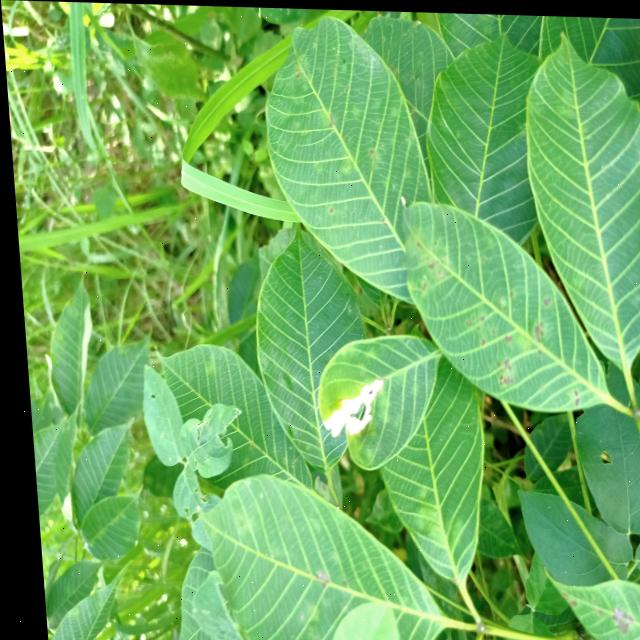Leaf-Blight: (313, 377, 381, 436)
